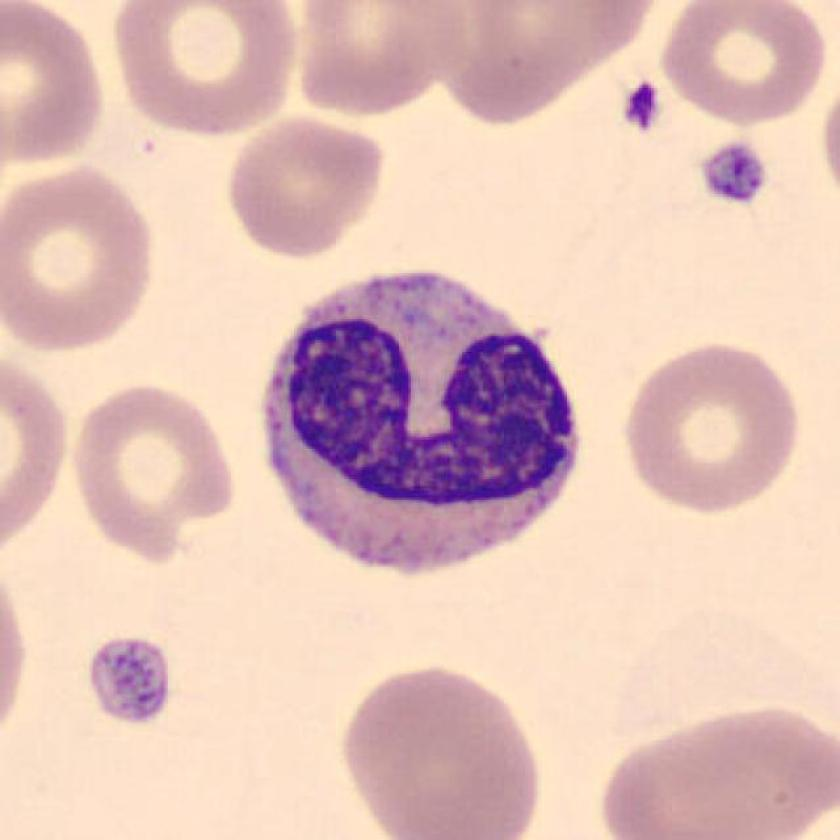neutrophil: (265, 273, 578, 572)
